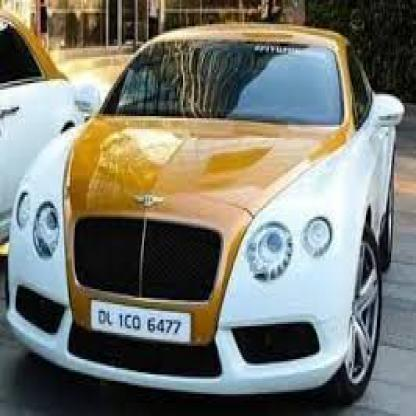car: (6, 20, 405, 407)
